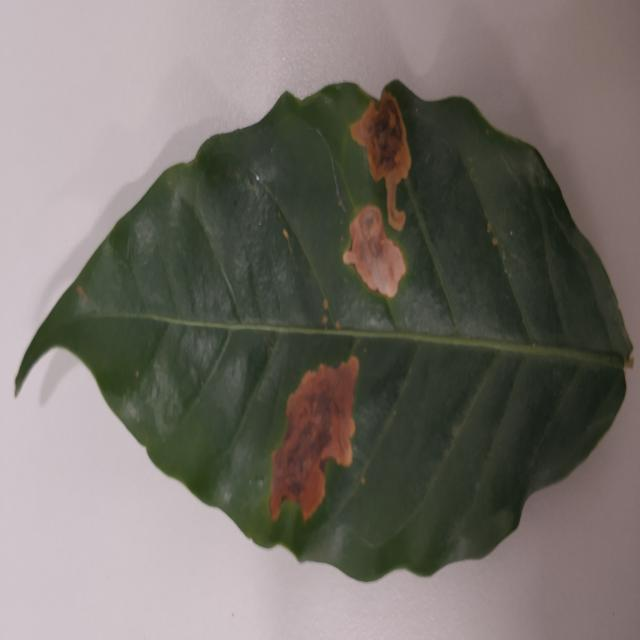Plaga-Minador: (13, 81, 633, 586)
